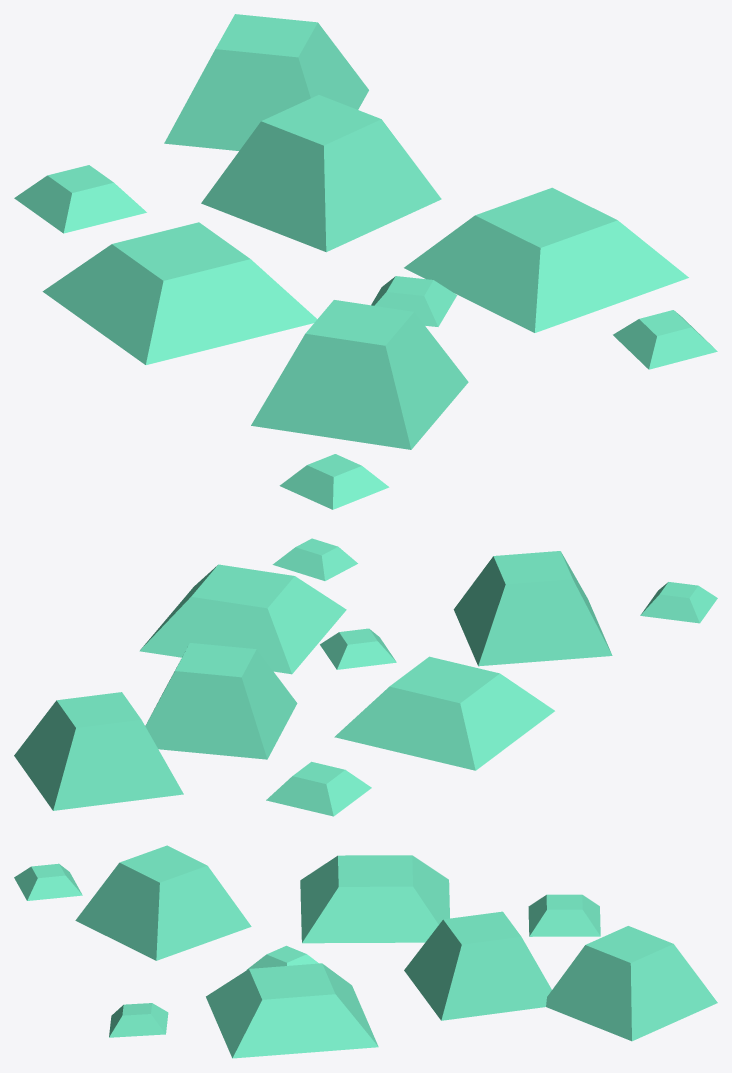
The model's file is Crystal.fbx.
3 views of the same model, one above another, from view 1: azimuth 30°, elevation 25°; view 2: azimuth 150°, elevation 25°; view 3: azimuth 270°, elevation 25° (orthographic). The views are drawn at different scales.
Parts seen in each view (by area): view 1: rocks_smallA.012; view 2: rocks_smallA.012; view 3: rocks_smallA.012.
Part boxes in pixels (x1,y1,x2,y2): rocks_smallA.012: (14,14,717,509); rocks_smallA.012: (14,538,717,816); rocks_smallA.012: (14,845,717,1058).
Size of the model in its own units: 16.49 by 2.51 by 26.3.
